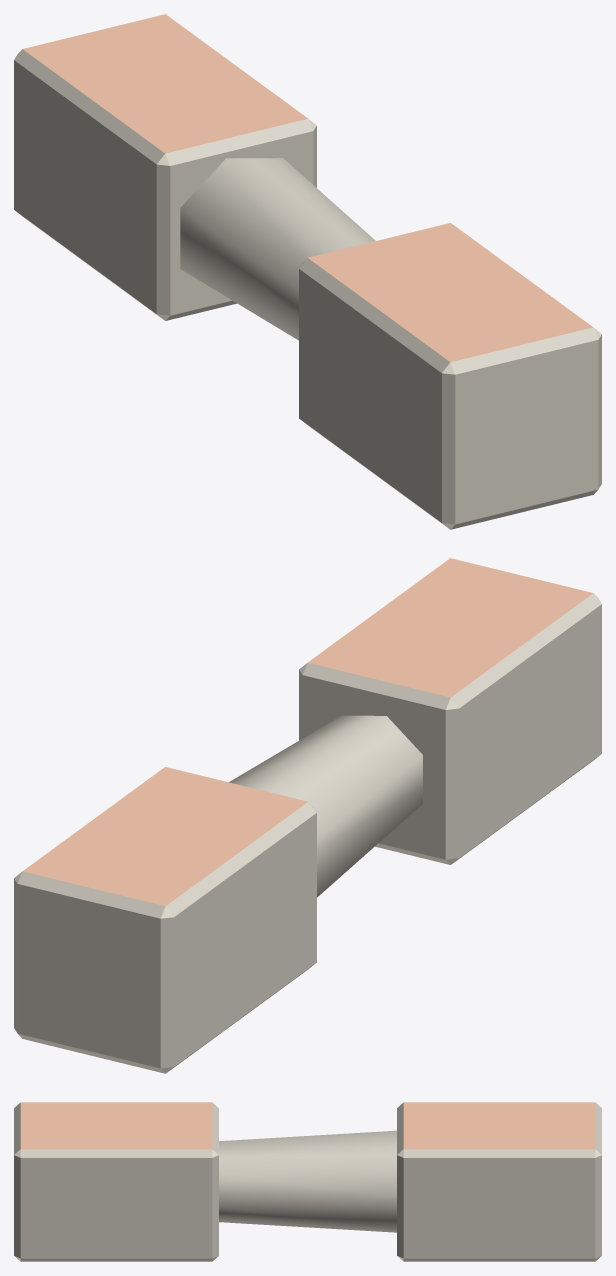
File: R4C_ROD_SHORT_LOD1.fbx
3 renders of one model, top to bottom at view 1: azimuth 30°, elevation 25°; view 2: azimuth 150°, elevation 25°; view 3: azimuth 270°, elevation 25°, orthographic. The views are drawn at different scales.
Visible parts, largest first — view 1: R4C_ROD_SHORT_LOD1; view 2: R4C_ROD_SHORT_LOD1; view 3: R4C_ROD_SHORT_LOD1.
Boxes of the visible parts, bbox=[...] form: R4C_ROD_SHORT_LOD1: bbox=[14, 14, 601, 529]; R4C_ROD_SHORT_LOD1: bbox=[14, 558, 601, 1073]; R4C_ROD_SHORT_LOD1: bbox=[14, 1102, 601, 1261].
Bounding box in the file's own units: 0.226 × 0.226 × 1.07.
